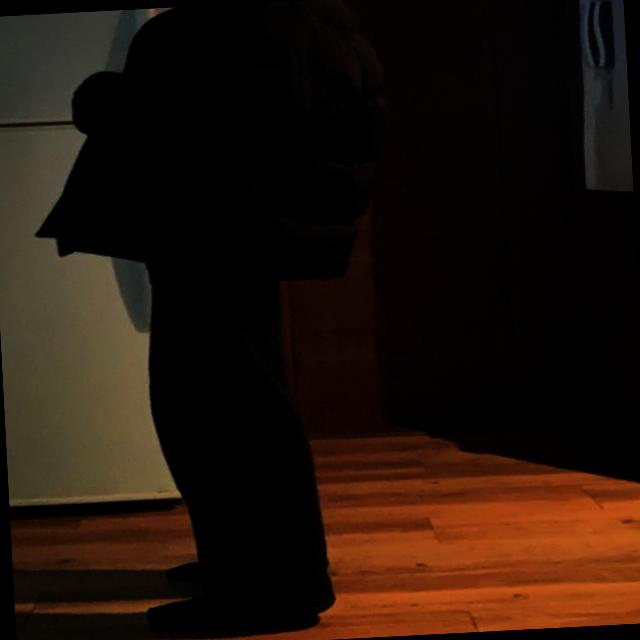denimpants: (141, 248, 330, 620)
padding: (24, 0, 396, 295)
